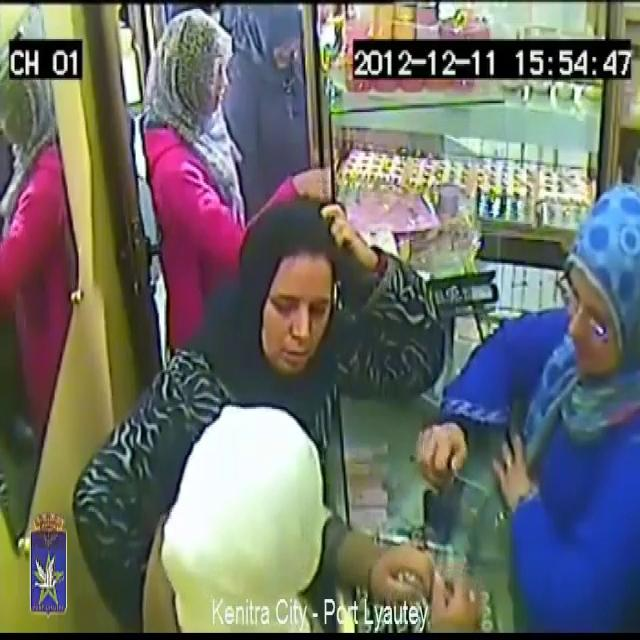Product: (413, 536, 443, 603)
normal: (466, 138, 639, 640), (131, 0, 259, 328), (246, 195, 378, 412), (204, 0, 304, 188)
shoplifting: (137, 392, 489, 640)
